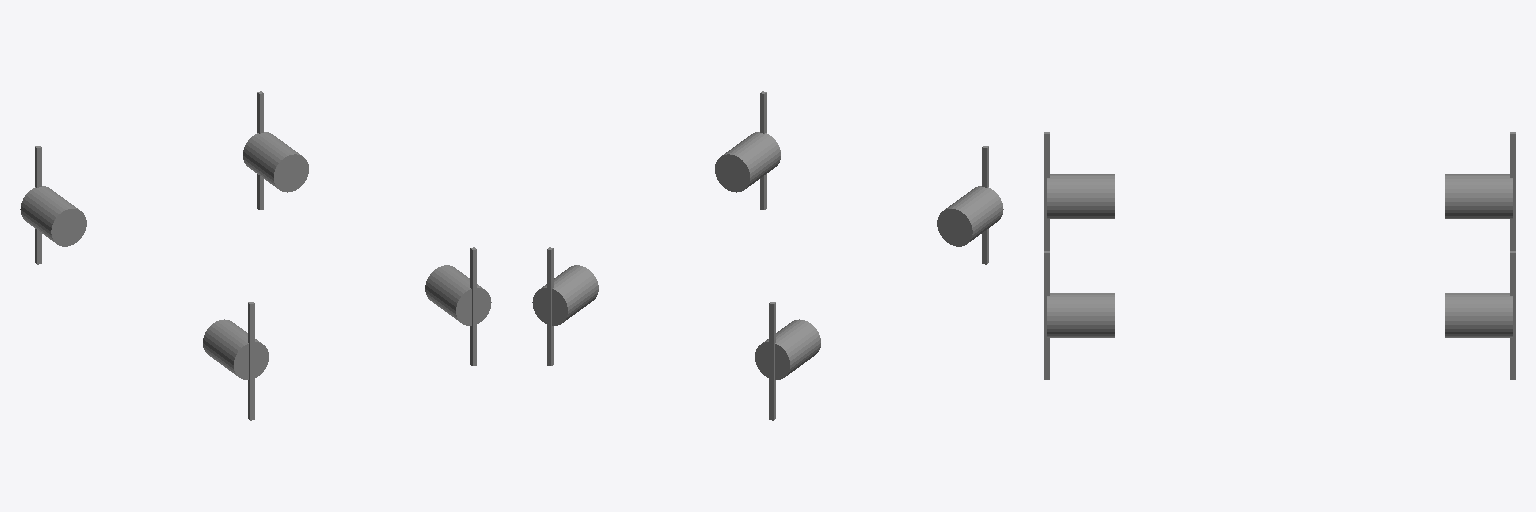
The robot description file, URDF, robot "wheeler":
<?xml version="1.0" ?>


<robot name="wheeler">

    <!-- gazebo -->
    <gazebo>
        <plugin name="skid_steer_drive_controller" filename="libgazebo_ros_skid_steer_drive.so">
            <updateRate>100.0</updateRate>
            <robotNamespace>/wheeler/</robotNamespace>
            
            <leftFrontJoint>chasis_fl_wheel</leftFrontJoint>
            <rightFrontJoint>chasis_fr_wheel</rightFrontJoint>
            <leftRearJoint>chasis_bl_wheel</leftRearJoint>
            <rightRearJoint>chasis_br_wheel</rightRearJoint>
            
            <wheelSeparation>0.65</wheelSeparation>
            <wheelDiameter>0.4</wheelDiameter>
            <robotBaseFrame></robotBaseFrame>
            <torque>20</torque>
            <commandTopic>cmd_vel</commandTopic>
            <odometryTopic>odom</odometryTopic>
            <broadcastTF>false</broadcastTF>
        </plugin>
    </gazebo>
    
    <!-- main -->
    <link name ="chassis" >
    
        <inertial>

              <origin xyz="0 0 0.3" rpy="0 0 0" />

              <mass value="1"/>

                <inertia 
                  ixx="1.5417" 
                  ixy="0" 
                  ixz="0" 
                  iyy="3.467" 
                  iyz="0" 
                  izz="4.742"
                />
        </inertial>
        


      <visual >

          <geometry>
              
                <mesh   filename="package://robot_description/models/wheeler/STL/chassis.stl"  
                        scale="0.5 0.5 0.5"
                />
          
          </geometry>
     

      </visual>

      <collision>
    
          <geometry>
            
                <box size="1 0.65 0.2" />

          </geometry>
          
      </collision>
    </link>

    

        <link name="bl_wheel">
            <inertial>
        
                <origin xyz="0 0 0" rpy="0 0 0" />
        
                <mass value="1"/>
        
              <inertia 
                ixx="0.002526666666667" 
                ixy="0" 
                ixz="0" 
                iyy="0.002526666666667" 
                iyz="0" 
                izz="0.005"
              />
            </inertial>

            <!-- Tires -->
            <collision>
                <origin xyz="0 0.09 0" 
                        rpy="1.5707963267948966 0 0" />
                <geometry>
                    <cylinder length="0.06" radius="0.2"/>
                </geometry>
            </collision>
            
            <visual>
                <origin xyz="0 0.09 0" 
                    rpy="1.5707963267948966 0 0" />
                <geometry>
                    
                    <mesh   filename="package://robot_description/models/wheeler/STL/wheel.stl"  
                        scale="0.5 0.5 0.5"
                    />
        
                </geometry>
                <material name="Black">
                    <color rgba="0.1 0.1 0.1 1" />
                </material>
            </visual>

            <!-- Axle -->
            <collision>
                <origin xyz="0 0.03 0" 
                        rpy="1.5707963267948966 0 0" />
                <geometry>
                     <cylinder length="0.12" radius="0.04"/>
                </geometry>
            </collision>
            
            <visual>
                <origin xyz="0 0.03 0" 
                        rpy="1.5707963267948966 0 0" />
                <geometry>
                     <cylinder length="0.12" radius="0.04"/>
                </geometry>
                <material name="Grey">
                    <color rgba="0.6 0.6 0.6 1" />
                </material>
            </visual>

            <!-- Hubcap -->
            <visual>
                <origin xyz="0 0.09 0" 
                        rpy="1.5707963267948966 0 0" />
                <geometry>
                    <box size="0.01 0.25 0.01" />
                </geometry>
                <material name="Grey">
                    <color rgba="0.6 0.6 0.6 1" />
                </material>
            </visual>
        </link>


        <joint name="chasis_bl_wheel" type="continuous">
        <origin xyz="-0.25 0.325 0" 
                rpy="0 0 0" />
            <child link="bl_wheel" />
            <parent link="chassis" />
            <axis xyz="0 1 0" 
                    rpy="0 0 0" />
            <limit effort="10000" velocity="1000" />
            <joint_properties damping="1" friction="1" />
        </joint>

    

        <link name="br_wheel">
            <inertial>
        
                <origin xyz="0 0 0" rpy="0 0 0" />
        
                <mass value="1"/>
        
              <inertia 
                ixx="0.002526666666667" 
                ixy="0" 
                ixz="0" 
                iyy="0.002526666666667" 
                iyz="0" 
                izz="0.005"
              />
            </inertial>

            <!-- Tires -->
            <collision>
                <origin xyz="0 -0.09 0" 
                        rpy="1.5707963267948966 0 0" />
                <geometry>
                    <cylinder length="0.06" radius="0.2"/>
                </geometry>
            </collision>
            
            <visual>
                <origin xyz="0 -0.09 0" 
                    rpy="1.5707963267948966 0 0" />
                <geometry>
                    
                    <mesh   filename="package://robot_description/models/wheeler/STL/wheel.stl"  
                        scale="0.5 0.5 0.5"
                    />
        
                </geometry>
                <material name="Black">
                    <color rgba="0.1 0.1 0.1 1" />
                </material>
            </visual>

            <!-- Axle -->
            <collision>
                <origin xyz="0 -0.03 0" 
                        rpy="1.5707963267948966 0 0" />
                <geometry>
                     <cylinder length="0.12" radius="0.04"/>
                </geometry>
            </collision>
            
            <visual>
                <origin xyz="0 -0.03 0" 
                        rpy="1.5707963267948966 0 0" />
                <geometry>
                     <cylinder length="0.12" radius="0.04"/>
                </geometry>
                <material name="Grey">
                    <color rgba="0.6 0.6 0.6 1" />
                </material>
            </visual>

            <!-- Hubcap -->
            <visual>
                <origin xyz="0 -0.09 0" 
                        rpy="1.5707963267948966 0 0" />
                <geometry>
                    <box size="0.01 0.25 0.01" />
                </geometry>
                <material name="Grey">
                    <color rgba="0.6 0.6 0.6 1" />
                </material>
            </visual>
        </link>


        <joint name="chasis_br_wheel" type="continuous">
        <origin xyz="-0.25 -0.325 0" 
                rpy="0 0 0" />
            <child link="br_wheel" />
            <parent link="chassis" />
            <axis xyz="0 1 0" 
                    rpy="0 0 0" />
            <limit effort="10000" velocity="1000" />
            <joint_properties damping="1" friction="1" />
        </joint>

    

        <link name="fl_wheel">
            <inertial>
        
                <origin xyz="0 0 0" rpy="0 0 0" />
        
                <mass value="1"/>
        
              <inertia 
                ixx="0.002526666666667" 
                ixy="0" 
                ixz="0" 
                iyy="0.002526666666667" 
                iyz="0" 
                izz="0.005"
              />
            </inertial>

            <!-- Tires -->
            <collision>
                <origin xyz="0 0.09 0" 
                        rpy="1.5707963267948966 0 0" />
                <geometry>
                    <cylinder length="0.06" radius="0.2"/>
                </geometry>
            </collision>
            
            <visual>
                <origin xyz="0 0.09 0" 
                    rpy="1.5707963267948966 0 0" />
                <geometry>
                    
                    <mesh   filename="package://robot_description/models/wheeler/STL/wheel.stl"  
                        scale="0.5 0.5 0.5"
                    />
        
                </geometry>
                <material name="Black">
                    <color rgba="0.1 0.1 0.1 1" />
                </material>
            </visual>

            <!-- Axle -->
            <collision>
                <origin xyz="0 0.03 0" 
                        rpy="1.5707963267948966 0 0" />
                <geometry>
                     <cylinder length="0.12" radius="0.04"/>
                </geometry>
            </collision>
            
            <visual>
                <origin xyz="0 0.03 0" 
                        rpy="1.5707963267948966 0 0" />
                <geometry>
                     <cylinder length="0.12" radius="0.04"/>
                </geometry>
                <material name="Grey">
                    <color rgba="0.6 0.6 0.6 1" />
                </material>
            </visual>

            <!-- Hubcap -->
            <visual>
                <origin xyz="0 0.09 0" 
                        rpy="1.5707963267948966 0 0" />
                <geometry>
                    <box size="0.01 0.25 0.01" />
                </geometry>
                <material name="Grey">
                    <color rgba="0.6 0.6 0.6 1" />
                </material>
            </visual>
        </link>


        <joint name="chasis_fl_wheel" type="continuous">
        <origin xyz="0.25 0.325 0" 
                rpy="0 0 0" />
            <child link="fl_wheel" />
            <parent link="chassis" />
            <axis xyz="0 1 0" 
                    rpy="0 0 0" />
            <limit effort="10000" velocity="1000" />
            <joint_properties damping="1" friction="1" />
        </joint>

    

        <link name="fr_wheel">
            <inertial>
        
                <origin xyz="0 0 0" rpy="0 0 0" />
        
                <mass value="1"/>
        
              <inertia 
                ixx="0.002526666666667" 
                ixy="0" 
                ixz="0" 
                iyy="0.002526666666667" 
                iyz="0" 
                izz="0.005"
              />
            </inertial>

            <!-- Tires -->
            <collision>
                <origin xyz="0 -0.09 0" 
                        rpy="1.5707963267948966 0 0" />
                <geometry>
                    <cylinder length="0.06" radius="0.2"/>
                </geometry>
            </collision>
            
            <visual>
                <origin xyz="0 -0.09 0" 
                    rpy="1.5707963267948966 0 0" />
                <geometry>
                    
                    <mesh   filename="package://robot_description/models/wheeler/STL/wheel.stl"  
                        scale="0.5 0.5 0.5"
                    />
        
                </geometry>
                <material name="Black">
                    <color rgba="0.1 0.1 0.1 1" />
                </material>
            </visual>

            <!-- Axle -->
            <collision>
                <origin xyz="0 -0.03 0" 
                        rpy="1.5707963267948966 0 0" />
                <geometry>
                     <cylinder length="0.12" radius="0.04"/>
                </geometry>
            </collision>
            
            <visual>
                <origin xyz="0 -0.03 0" 
                        rpy="1.5707963267948966 0 0" />
                <geometry>
                     <cylinder length="0.12" radius="0.04"/>
                </geometry>
                <material name="Grey">
                    <color rgba="0.6 0.6 0.6 1" />
                </material>
            </visual>

            <!-- Hubcap -->
            <visual>
                <origin xyz="0 -0.09 0" 
                        rpy="1.5707963267948966 0 0" />
                <geometry>
                    <box size="0.01 0.25 0.01" />
                </geometry>
                <material name="Grey">
                    <color rgba="0.6 0.6 0.6 1" />
                </material>
            </visual>
        </link>


        <joint name="chasis_fr_wheel" type="continuous">
        <origin xyz="0.25 -0.325 0" 
                rpy="0 0 0" />
            <child link="fr_wheel" />
            <parent link="chassis" />
            <axis xyz="0 1 0" 
                    rpy="0 0 0" />
            <limit effort="10000" velocity="1000" />
            <joint_properties damping="1" friction="1" />
        </joint>

    
    

  


  

 
 


</robot>

--- Facts derived from the render (not from the file) ---
3 views of the same robot in one strip: view 1: azimuth 30°, elevation 25°; view 2: azimuth 150°, elevation 25°; view 3: azimuth 270°, elevation 25° (orthographic).
Model wheeler with 5 links and 4 joints (4 continuous), rooted at chassis, posed all joints at 0.
Visible links, largest first — view 1: bl_wheel, fr_wheel, br_wheel, fl_wheel; view 2: br_wheel, fl_wheel, bl_wheel, fr_wheel; view 3: fl_wheel, fr_wheel, bl_wheel, br_wheel.
Link boxes in pixels (left/top/right/bottom): bl_wheel: left=20, top=146, right=86, bottom=264; fr_wheel: left=425, top=247, right=491, bottom=365; br_wheel: left=203, top=302, right=268, bottom=420; fl_wheel: left=243, top=91, right=308, bottom=209; br_wheel: left=937, top=146, right=1003, bottom=264; fl_wheel: left=532, top=247, right=598, bottom=365; bl_wheel: left=755, top=302, right=820, bottom=420; fr_wheel: left=715, top=91, right=780, bottom=209; fl_wheel: left=1445, top=251, right=1515, bottom=379; fr_wheel: left=1044, top=251, right=1114, bottom=379; bl_wheel: left=1445, top=132, right=1515, bottom=250; br_wheel: left=1044, top=132, right=1114, bottom=250.
Bounding box of the posed robot: 0.58 × 0.84 × 0.25 m (x, y, z).
0 mesh visuals loaded from 2 distinct referenced files (none loaded); not drawn: 5 (reference not matched to a file when rendering).
